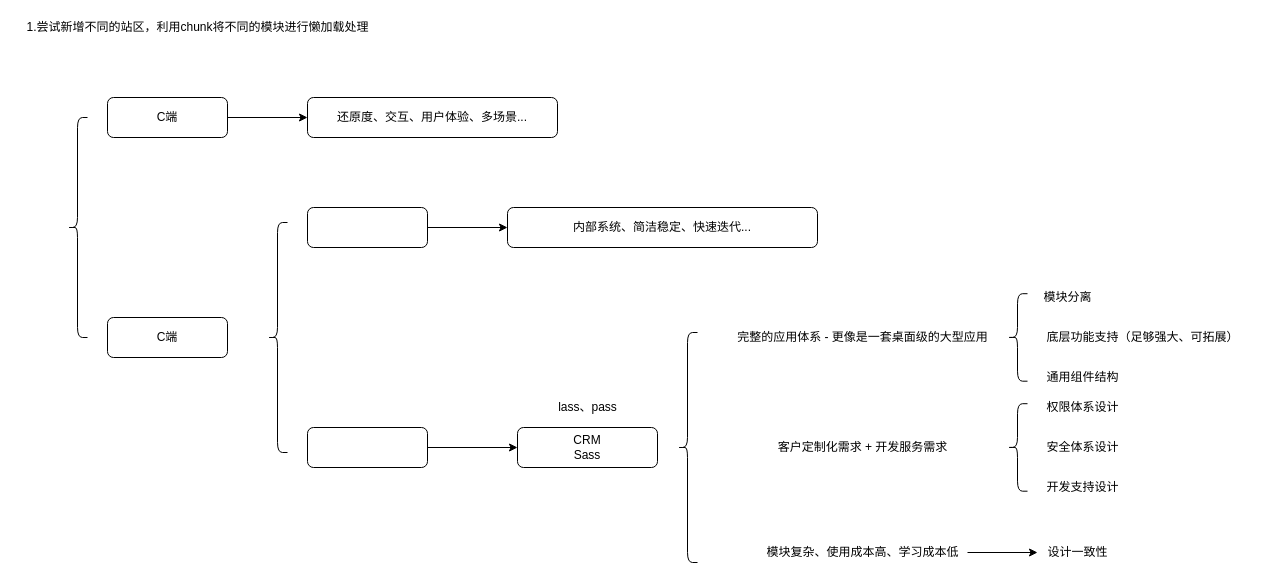
This 1264x580 diagram has some shape labels left out. The shapes that lost their labels are listed below. From the top down, each one's centre as x and y in pixels, then its label:
At [367,227]: "小b端".
At [367,447]: "大b端".
